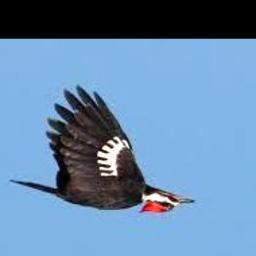Woodpecker: (9, 87, 193, 214)
